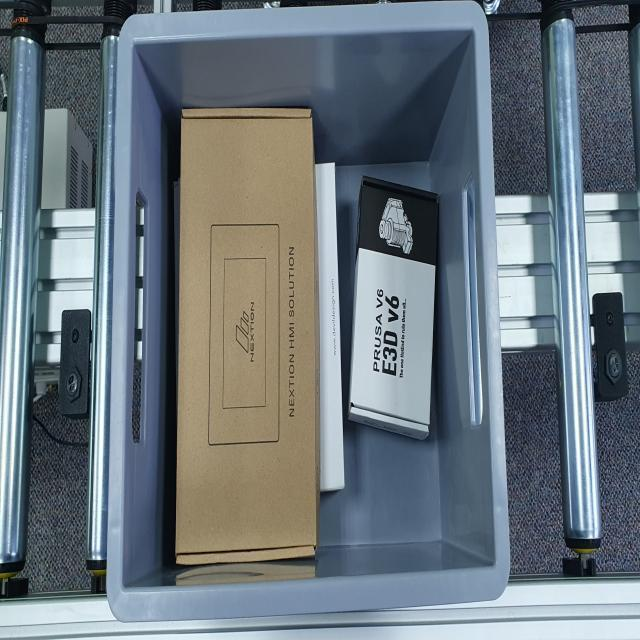box: (178, 108, 318, 564), (349, 176, 442, 448)
